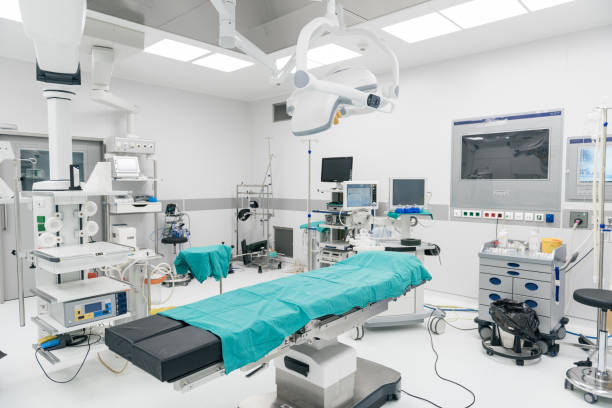TV: (459, 127, 559, 186)
bedside_monitor: (105, 151, 145, 181), (389, 178, 428, 206), (340, 183, 380, 210), (320, 158, 352, 182)
breathing_tube: (115, 242, 178, 304)
chair: (570, 281, 612, 408)
door_handle: (1, 195, 10, 232)
electrosurgical_unit: (41, 290, 131, 322)
iv_pole: (584, 101, 612, 284), (301, 138, 320, 269)
medical_drawer: (478, 238, 565, 357)
operating_bed: (104, 250, 463, 408)
